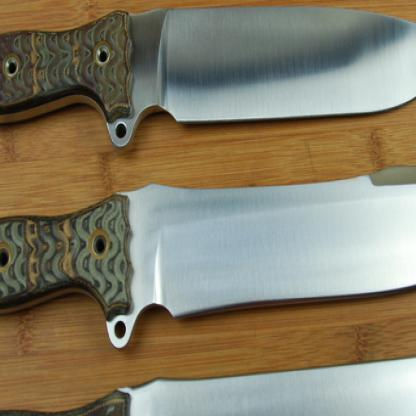knife: (0, 160, 415, 386), (0, 4, 415, 185)
